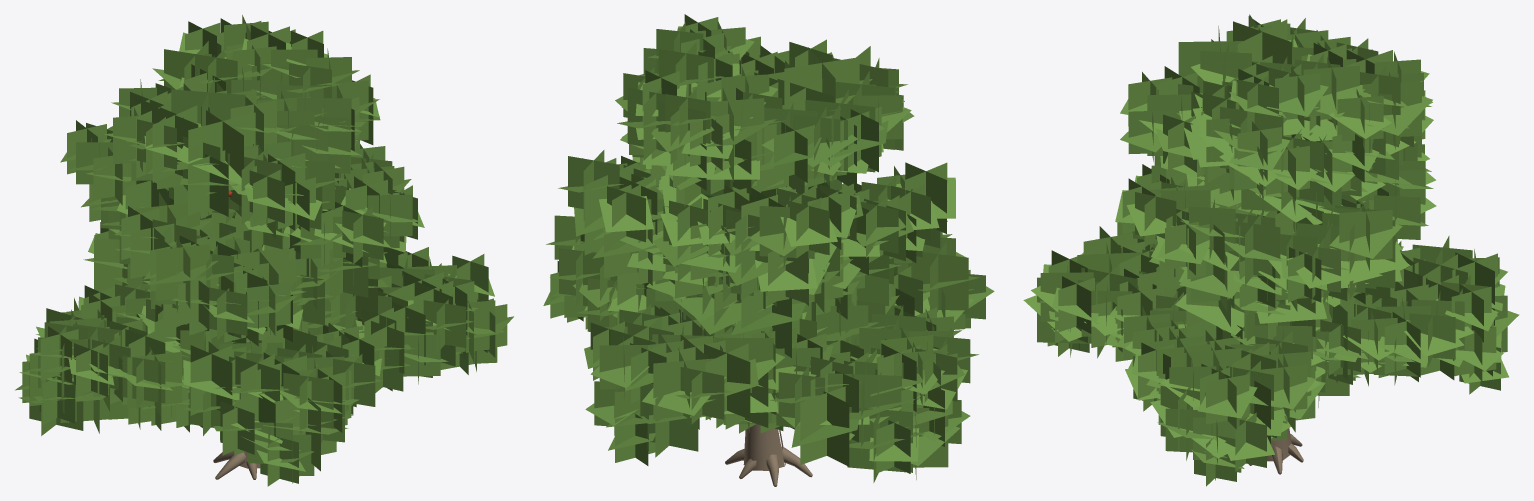
The model's file is pommier_jeu.glb.
The picture shows the model from 3 angles, left to right: view 1: azimuth 30°, elevation 25°; view 2: azimuth 150°, elevation 25°; view 3: azimuth 270°, elevation 25°; orthographic projection. The views are drawn at different scales.
Parts seen in each view (by area): view 1: Pommier_Leger; view 2: Pommier_Leger; view 3: Pommier_Leger.
Part boxes in pixels (bbox=[...]): Pommier_Leger: bbox=[15, 15, 513, 486]; Pommier_Leger: bbox=[543, 14, 994, 486]; Pommier_Leger: bbox=[1023, 14, 1519, 486].
Bounding box in the file's own units: 6.5 × 5.87 × 6.34.
